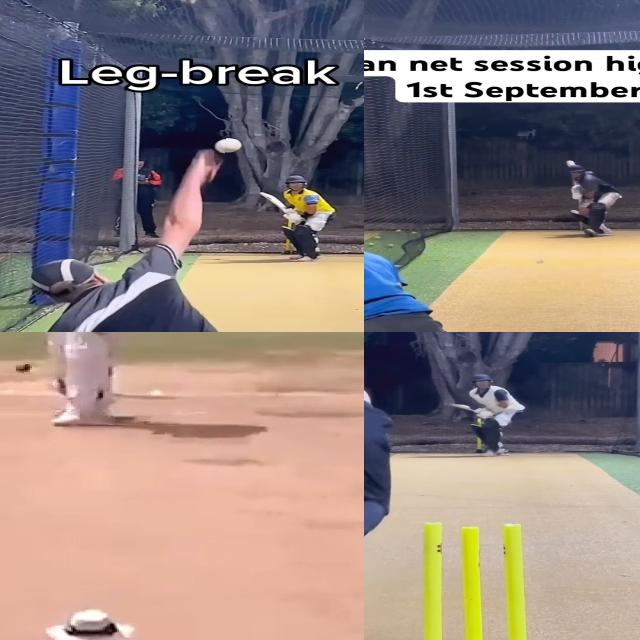Cricket ball: (214, 135, 245, 158), (13, 361, 34, 375), (535, 257, 546, 265)
Stumps: (404, 521, 553, 640)
